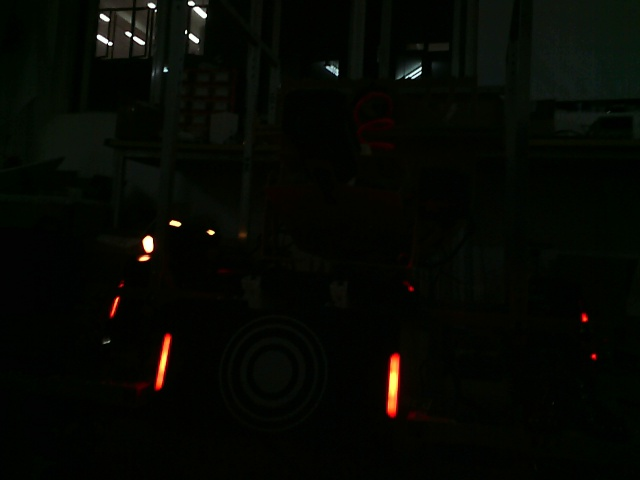lamp: (380, 350, 404, 420), (151, 329, 173, 394)
